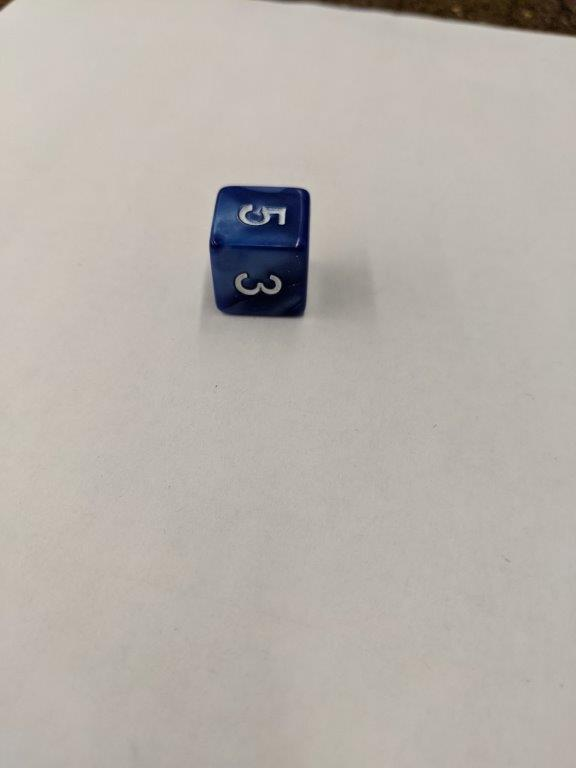d6-5: (209, 184, 311, 318)
